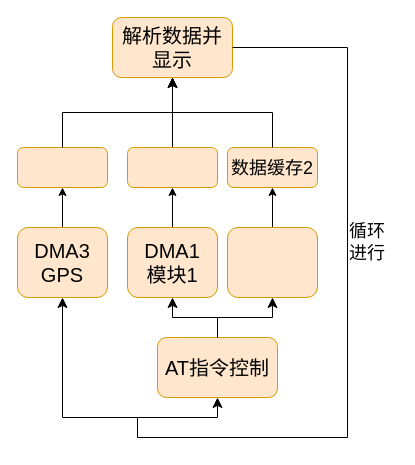
Some shapes in this 415 by 465 pixel diagram are drawn without their labels. The centre of each missing label's shape, as x and y in pixels:
"DMA2 模块2" goes at point (272, 262).
"数据缓存1" goes at point (172, 167).
"数据缓存3" goes at point (62, 167).
